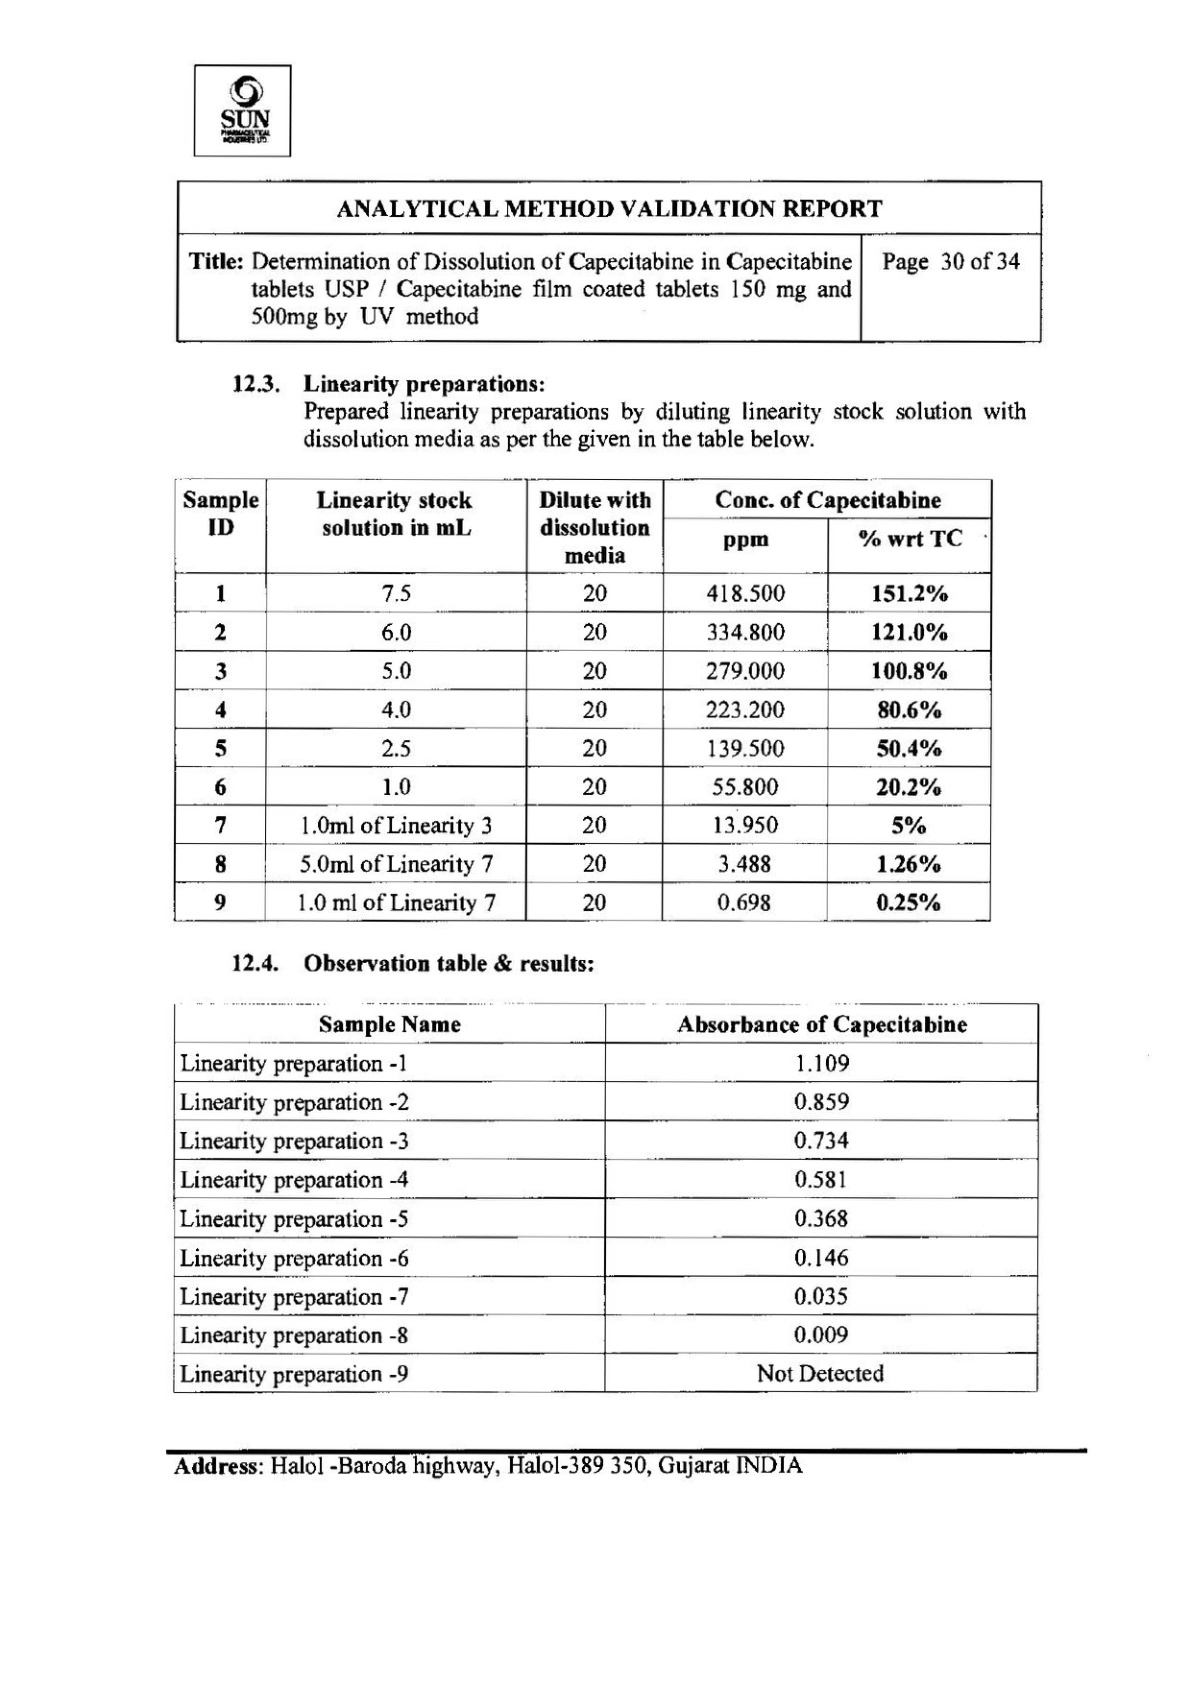full_lined: (171, 1001, 1039, 1394)
merged_cells: (173, 476, 992, 921), (175, 179, 1043, 344)
